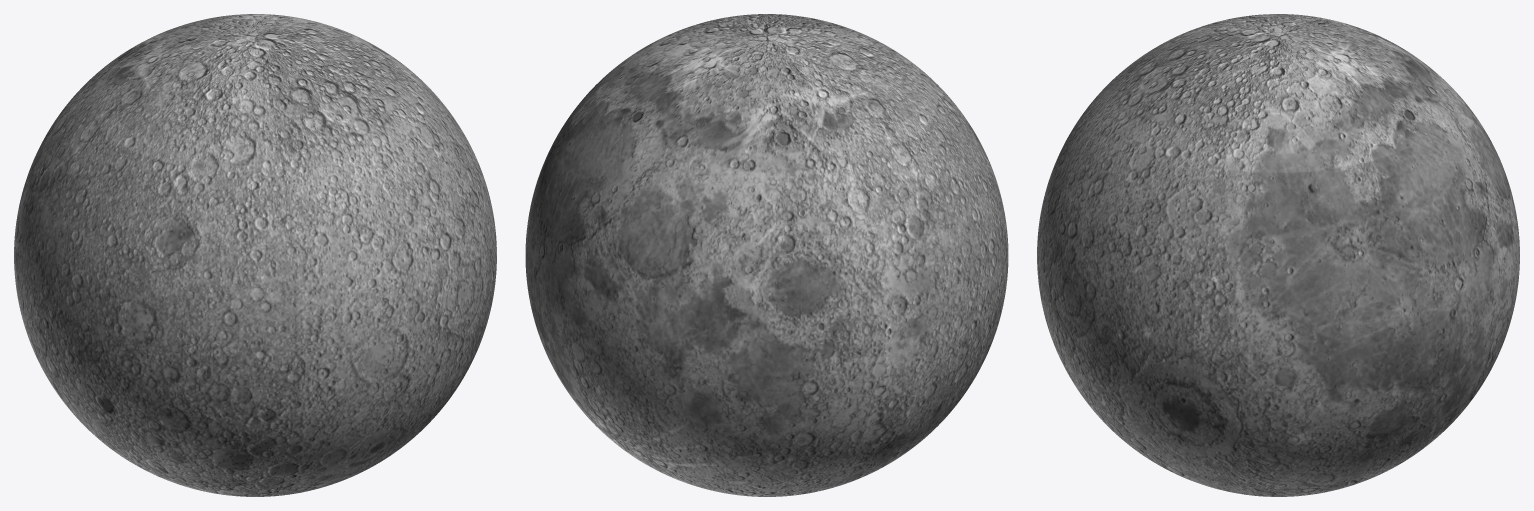
File: moon.glb
The picture shows the model from 3 angles, left to right: view 1: azimuth 30°, elevation 25°; view 2: azimuth 150°, elevation 25°; view 3: azimuth 270°, elevation 25°; orthographic projection.
Parts seen in each view (by area): view 1: moon; view 2: moon; view 3: moon.
Part boxes in pixels (x1,y1,x2,y2): moon: (14, 14, 496, 496); moon: (525, 14, 1008, 496); moon: (1037, 14, 1519, 496).
Bounding box in the file's own units: 117 × 117 × 117.
Materials: 1 (1 with a texture image).
